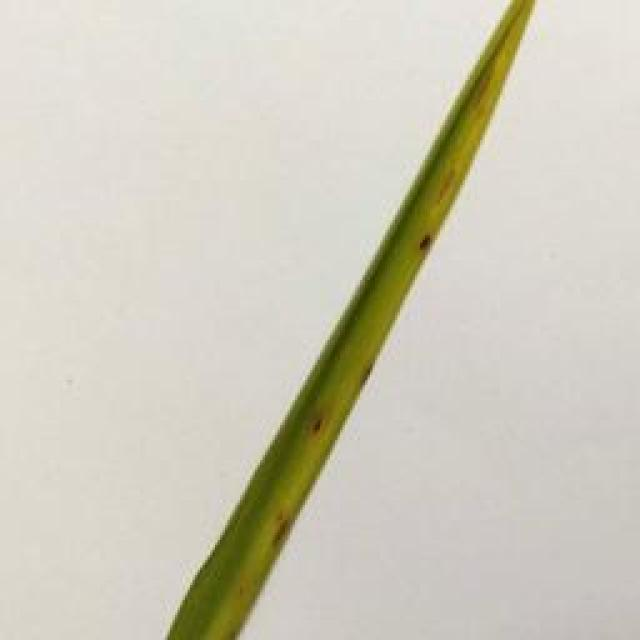Brown_Spot: (264, 500, 318, 563), (411, 232, 460, 270), (297, 406, 338, 442), (350, 366, 386, 394)
